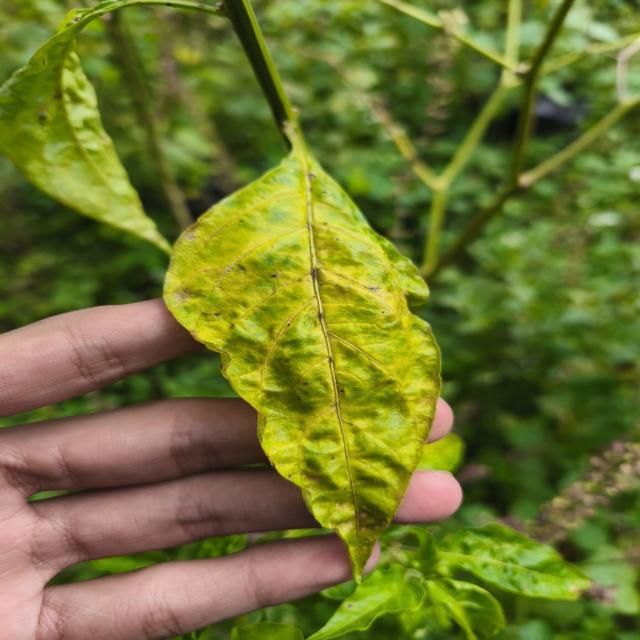Virus Kuning: (160, 148, 444, 584)
